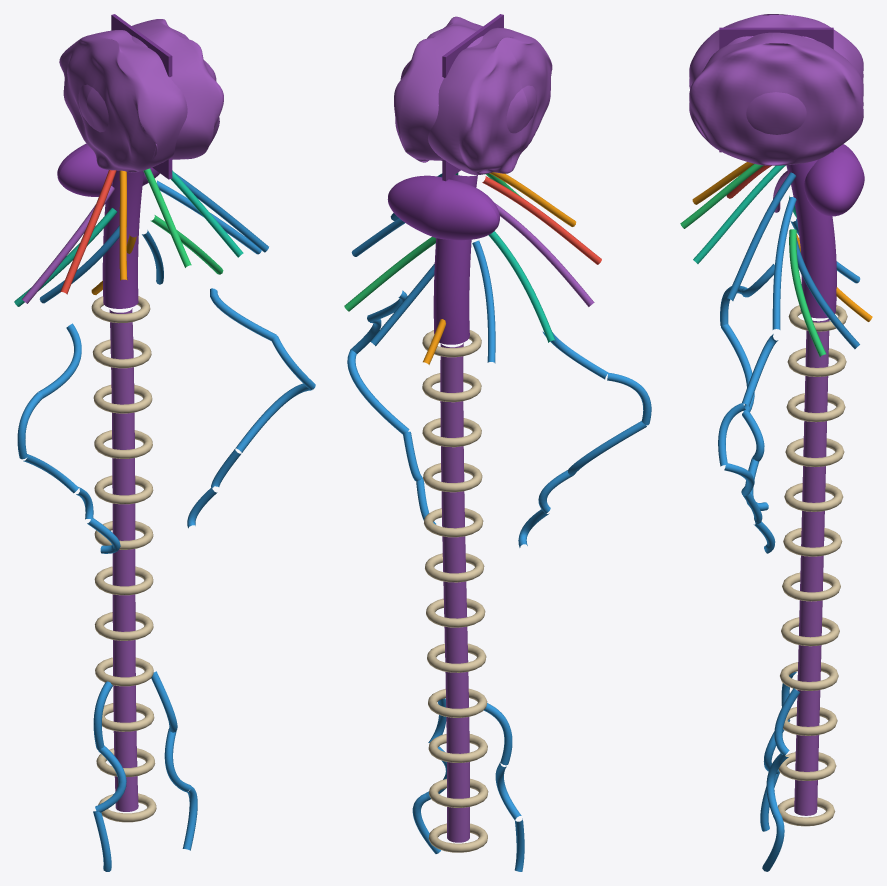
The model's file is nervous.glb.
3 renders of one model, left to right at view 1: azimuth 30°, elevation 25°; view 2: azimuth 150°, elevation 25°; view 3: azimuth 270°, elevation 25°, orthographic.
Visible parts, largest first — view 1: RightCerebralHemisphere, Vertebra (×12), SpinalCord, CranialNerve (×10), LeftCerebralHemisphere, PeripheralNerve (×7), Brainstem, Cerebellum, LongitudinalFissure; view 2: RightCerebralHemisphere, Vertebra (×12), SpinalCord, CranialNerve (×7), LeftCerebralHemisphere, Cerebellum, Brainstem, PeripheralNerve (×4), LongitudinalFissure; view 3: LeftCerebralHemisphere, Vertebra (×12), SpinalCord, CranialNerve (×7), RightCerebralHemisphere, PeripheralNerve (×8), Brainstem, Cerebellum, LongitudinalFissure.
Part boxes in pixels (left/top/right/bottom): RightCerebralHemisphere: left=59, top=30, right=187, bottom=172; Vertebra (×12): left=91, top=296, right=156, bottom=822; SpinalCord: left=109, top=308, right=138, bottom=811; CranialNerve (×10): left=14, top=168, right=268, bottom=306; LeftCerebralHemisphere: left=78, top=19, right=223, bottom=159; PeripheralNerve (×7): left=17, top=288, right=311, bottom=812; Brainstem: left=102, top=170, right=143, bottom=308; Cerebellum: left=57, top=143, right=159, bottom=196; LongitudinalFissure: left=111, top=14, right=172, bottom=179; RightCerebralHemisphere: left=428, top=27, right=552, bottom=174; Vertebra (×12): left=422, top=330, right=488, bottom=852; SpinalCord: left=440, top=343, right=469, bottom=842; CranialNerve (×7): left=344, top=172, right=601, bottom=363; LeftCerebralHemisphere: left=394, top=16, right=536, bottom=162; Cerebellum: left=387, top=175, right=499, bottom=240; Brainstem: left=433, top=174, right=477, bottom=344; PeripheralNerve (×4): left=347, top=349, right=651, bottom=765; LongitudinalFissure: left=442, top=14, right=503, bottom=181; LeftCerebralHemisphere: left=689, top=32, right=863, bottom=165; Vertebra (×12): left=778, top=305, right=847, bottom=826; SpinalCord: left=794, top=318, right=829, bottom=815; CranialNerve (×7): left=680, top=162, right=859, bottom=356; RightCerebralHemisphere: left=689, top=14, right=863, bottom=134; PeripheralNerve (×8): left=718, top=324, right=800, bottom=871; Brainstem: left=786, top=160, right=836, bottom=318; Cerebellum: left=804, top=144, right=864, bottom=216; LongitudinalFissure: left=719, top=27, right=833, bottom=152.
Bounding box in the file's own units: 1.65 × 4.36 × 0.923.
